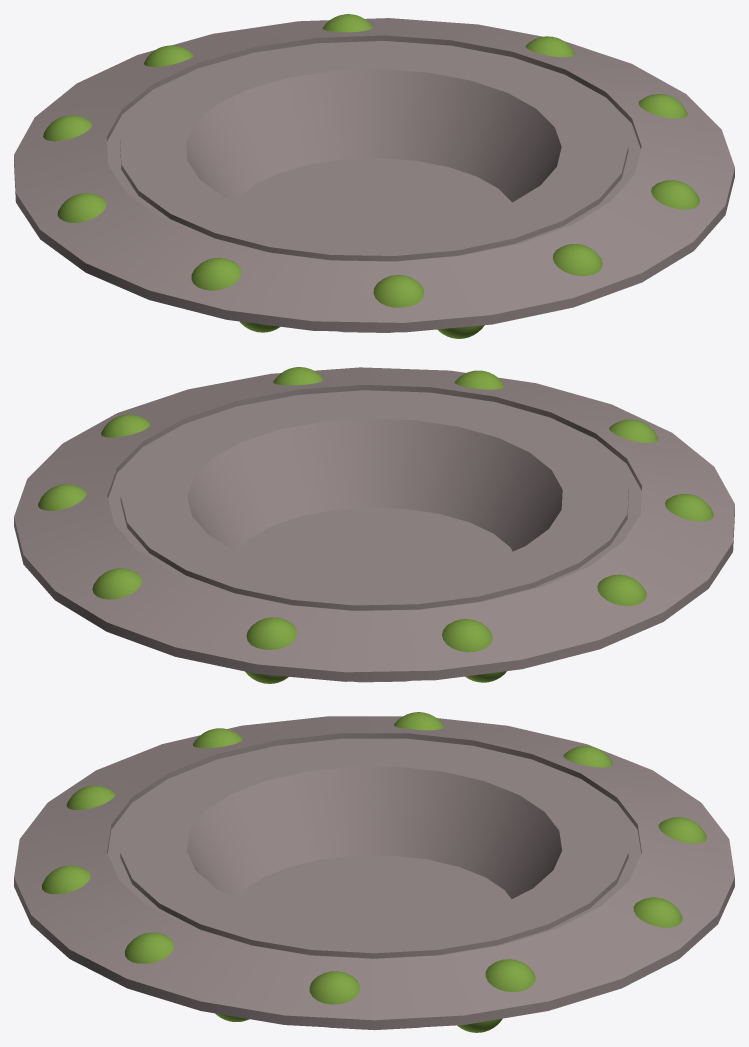
Rendered from UFO_Model.fbx.
The picture shows the model from 3 angles, top to bottom: view 1: azimuth 30°, elevation 25°; view 2: azimuth 150°, elevation 25°; view 3: azimuth 270°, elevation 25°; orthographic projection.
Visible parts, largest first — view 1: UFO_Base, pSphere6, pSphere10, pSphere5, pSphere2, pSphere9, pSphere8, pSphere3, pSphere4, pSphere7, pSphere11; view 2: UFO_Base, pSphere8, pSphere4, pSphere2, pSphere11, pSphere10, pSphere7, pSphere6, pSphere3, pSphere5, pSphere9; view 3: UFO_Base, pSphere3, pSphere7, pSphere9, pSphere11, pSphere5, pSphere4, pSphere6, pSphere8, pSphere10, pSphere2.
Part boxes in pixels (left/top/right/bottom): UFO_Base: left=14, top=18, right=734, bottom=332; pSphere6: left=373, top=275, right=424, bottom=307; pSphere10: left=191, top=257, right=241, bottom=290; pSphere5: left=552, top=244, right=602, bottom=275; pSphere2: left=57, top=193, right=106, bottom=222; pSphere9: left=651, top=180, right=699, bottom=209; pSphere8: left=43, top=115, right=91, bottom=141; pSphere3: left=638, top=94, right=687, bottom=118; pSphere4: left=144, top=45, right=193, bottom=66; pSphere7: left=525, top=36, right=575, bottom=57; pSphere11: left=322, top=14, right=372, bottom=32; UFO_Base: left=14, top=367, right=734, bottom=682; pSphere8: left=442, top=619, right=492, bottom=652; pSphere4: left=246, top=617, right=296, bottom=649; pSphere2: left=597, top=574, right=646, bottom=606; pSphere11: left=92, top=568, right=141, bottom=599; pSphere10: left=665, top=494, right=713, bottom=521; pSphere7: left=38, top=484, right=86, bottom=510; pSphere6: left=609, top=419, right=658, bottom=442; pSphere3: left=101, top=414, right=150, bottom=437; pSphere5: left=454, top=370, right=504, bottom=389; pSphere9: left=273, top=367, right=323, bottom=385; UFO_Base: left=14, top=716, right=734, bottom=1030; pSphere3: left=309, top=971, right=359, bottom=1004; pSphere7: left=485, top=959, right=535, bottom=992; pSphere9: left=125, top=932, right=173, bottom=963; pSphere11: left=633, top=897, right=682, bottom=927; pSphere5: left=41, top=865, right=90, bottom=894; pSphere4: left=658, top=817, right=706, bottom=843; pSphere6: left=66, top=785, right=115, bottom=809; pSphere8: left=563, top=746, right=612, bottom=767; pSphere10: left=193, top=728, right=242, bottom=748; pSphere2: left=394, top=712, right=444, bottom=730.
Bounding box in the file's own units: 2.21 × 0.5367 × 2.21.
